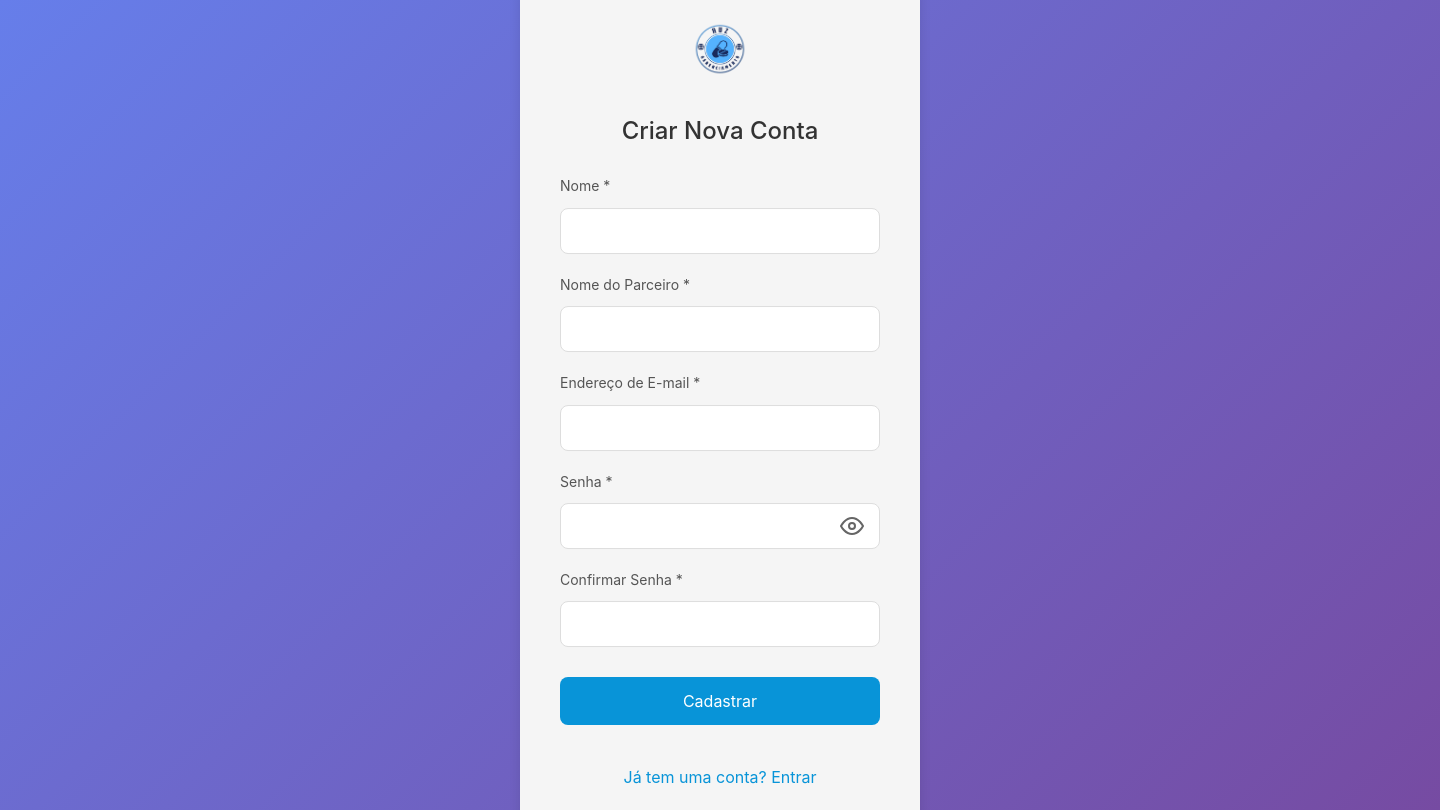
Register Component › failed registration shows error message
Type "João Silva" into the field labelled "Nome *" at (720, 231), box [560, 208, 880, 254]
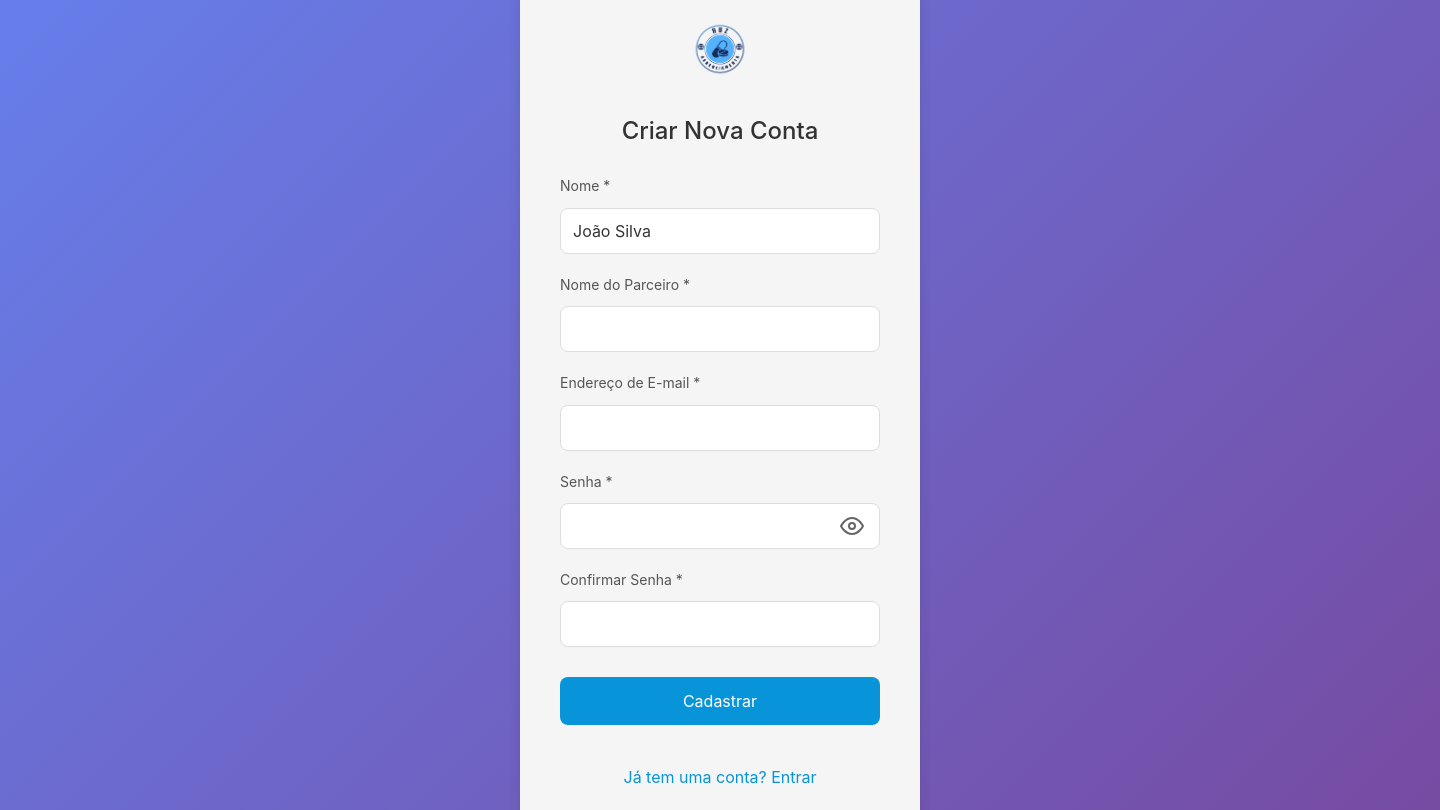
Type "Parceiro Test" into the field labelled "Nome do Parceiro *" at (720, 329), box [560, 306, 880, 352]
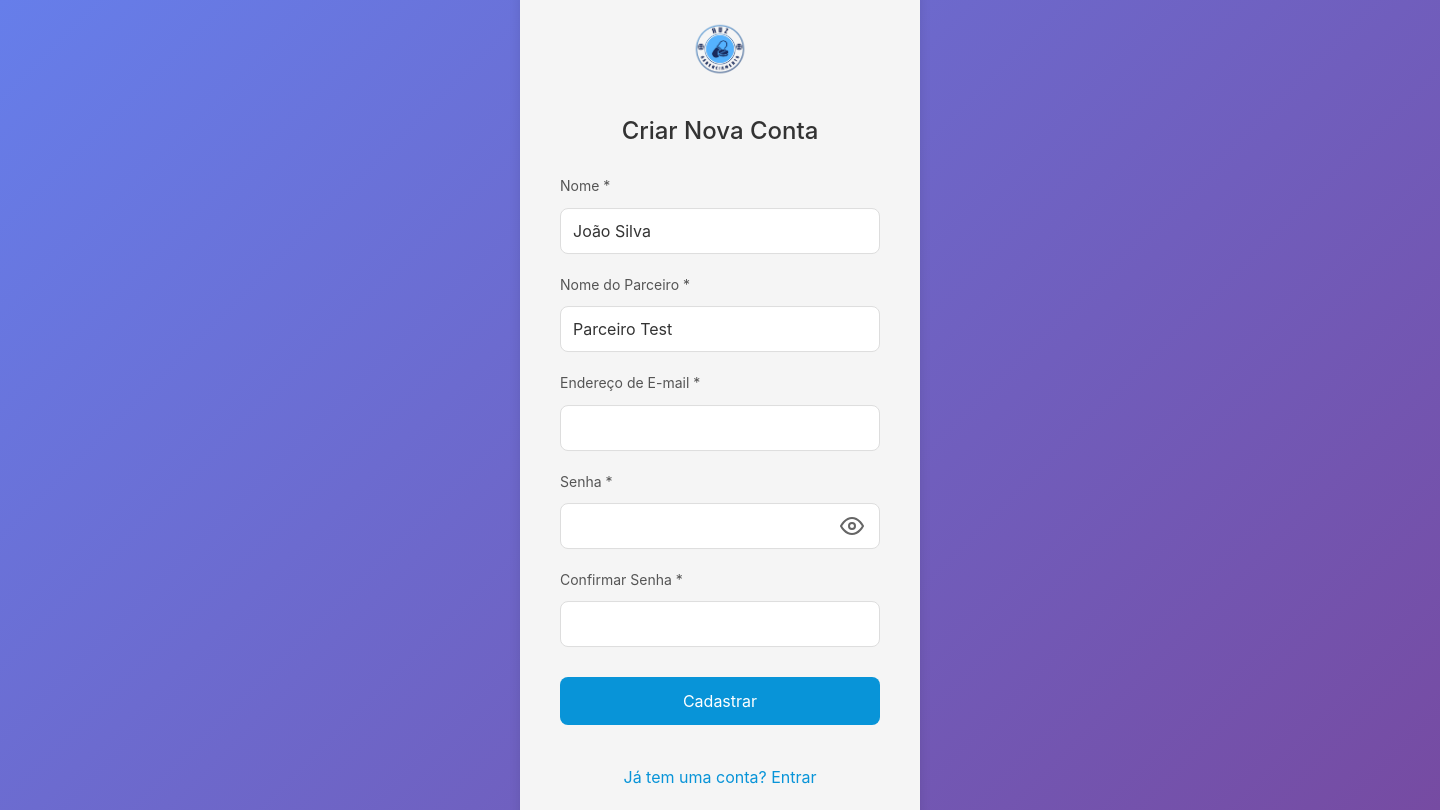
Type "test@example.com" into the field labelled "Endereço de E-mail *" at (720, 428), box [560, 405, 880, 451]
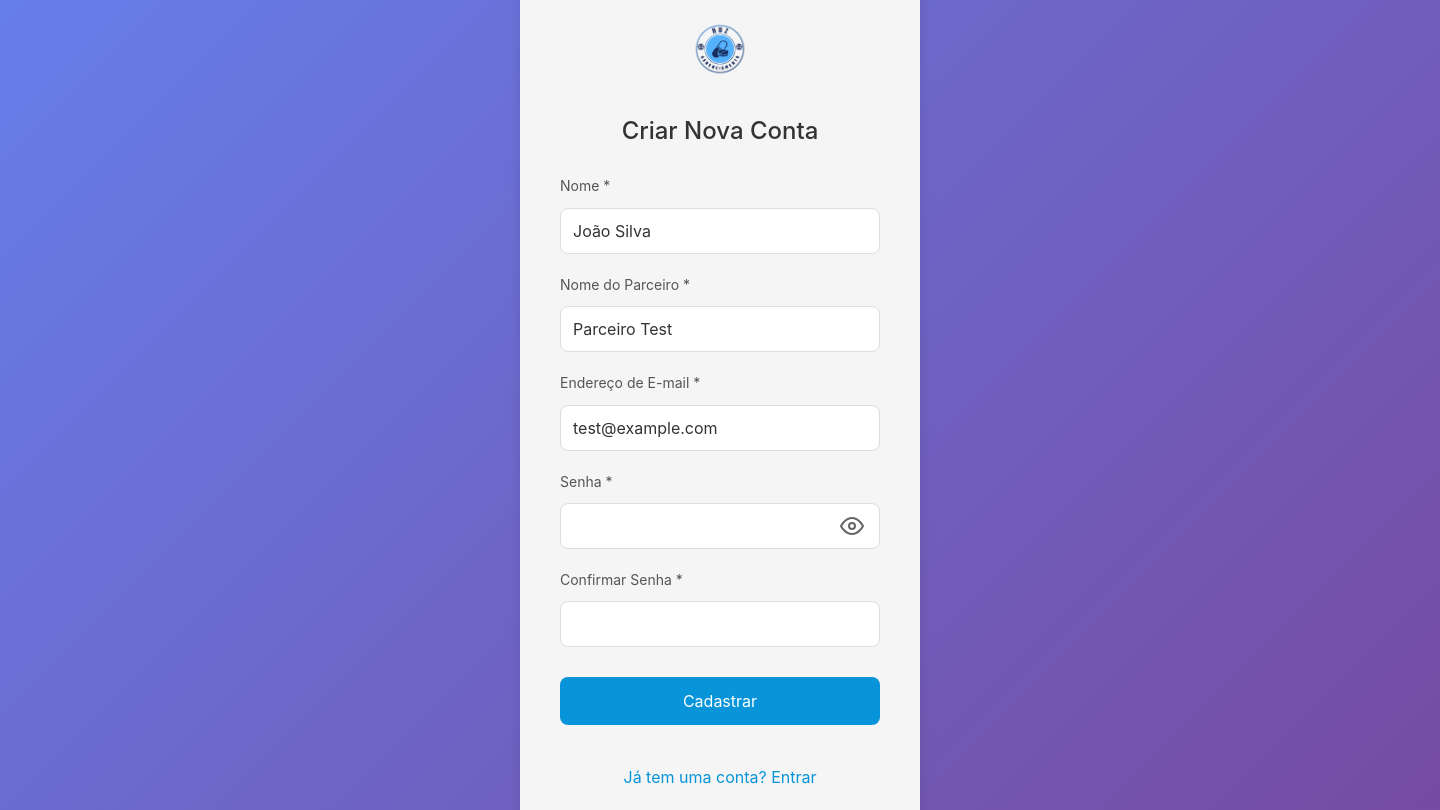
Type "password123" into the password field labelled "Senha *" at (720, 526), box [560, 503, 880, 549]
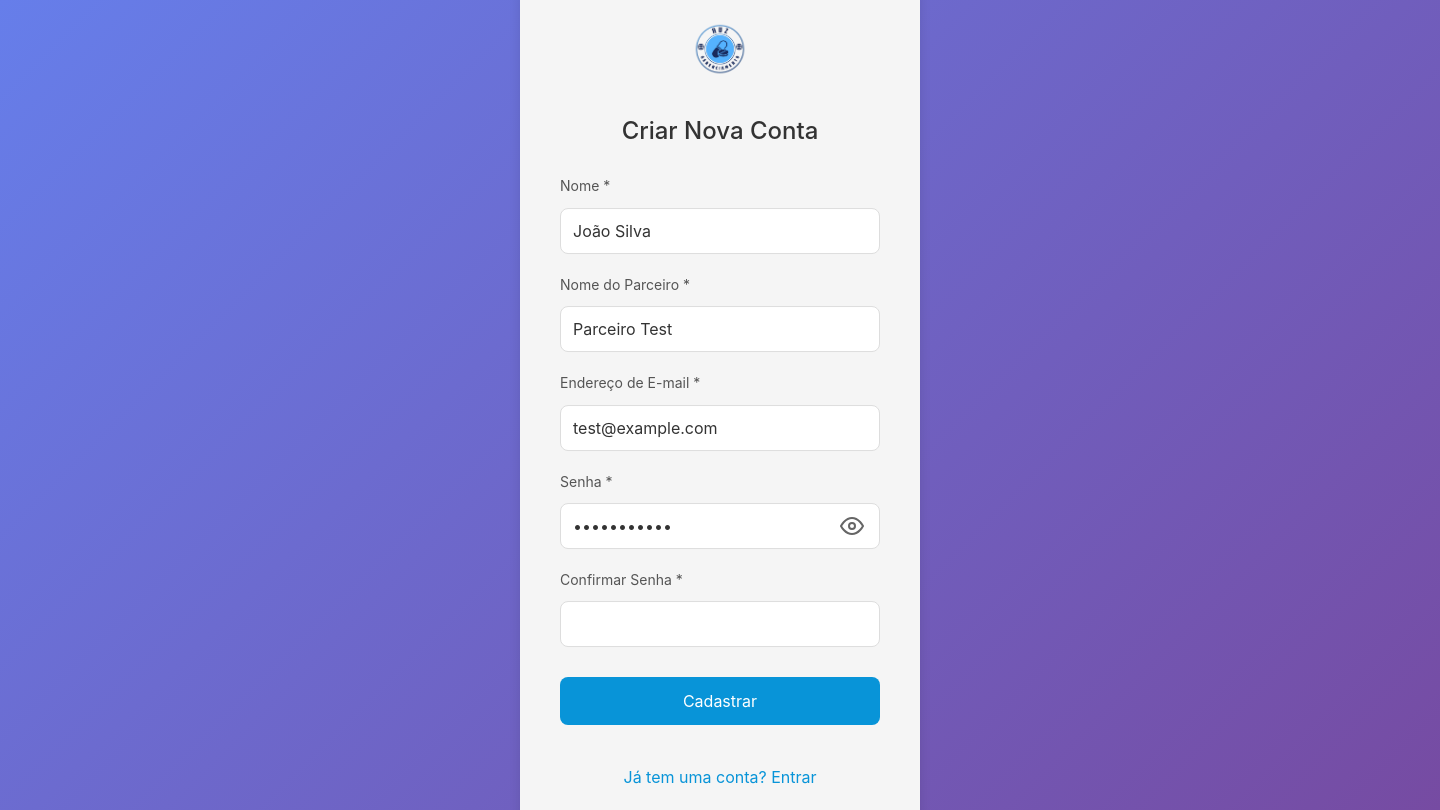
Type "password123" into the password field labelled "Confirmar Senha *" at (720, 624), box [560, 601, 880, 647]
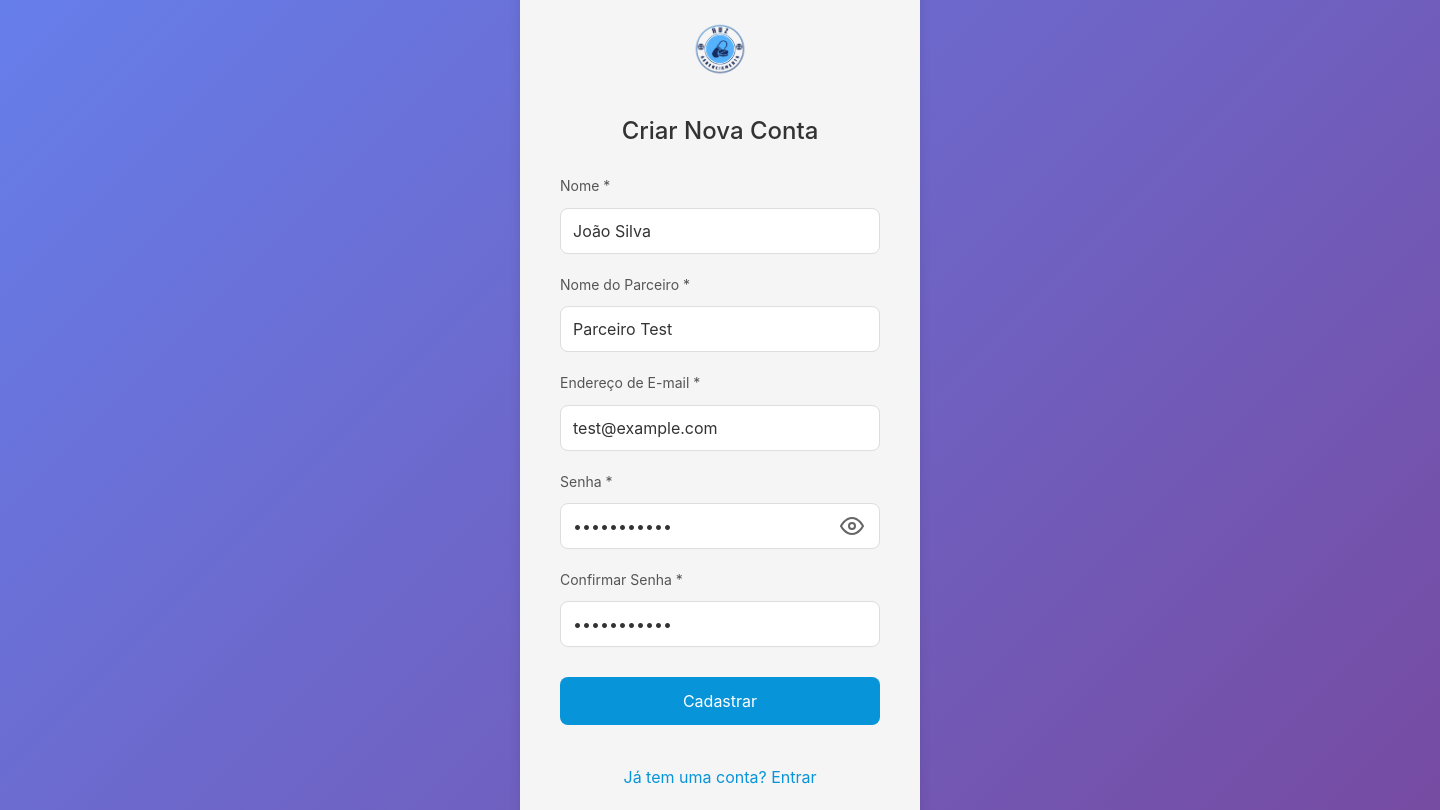
Click the button "Cadastrar" at (720, 701), box [560, 677, 880, 725]
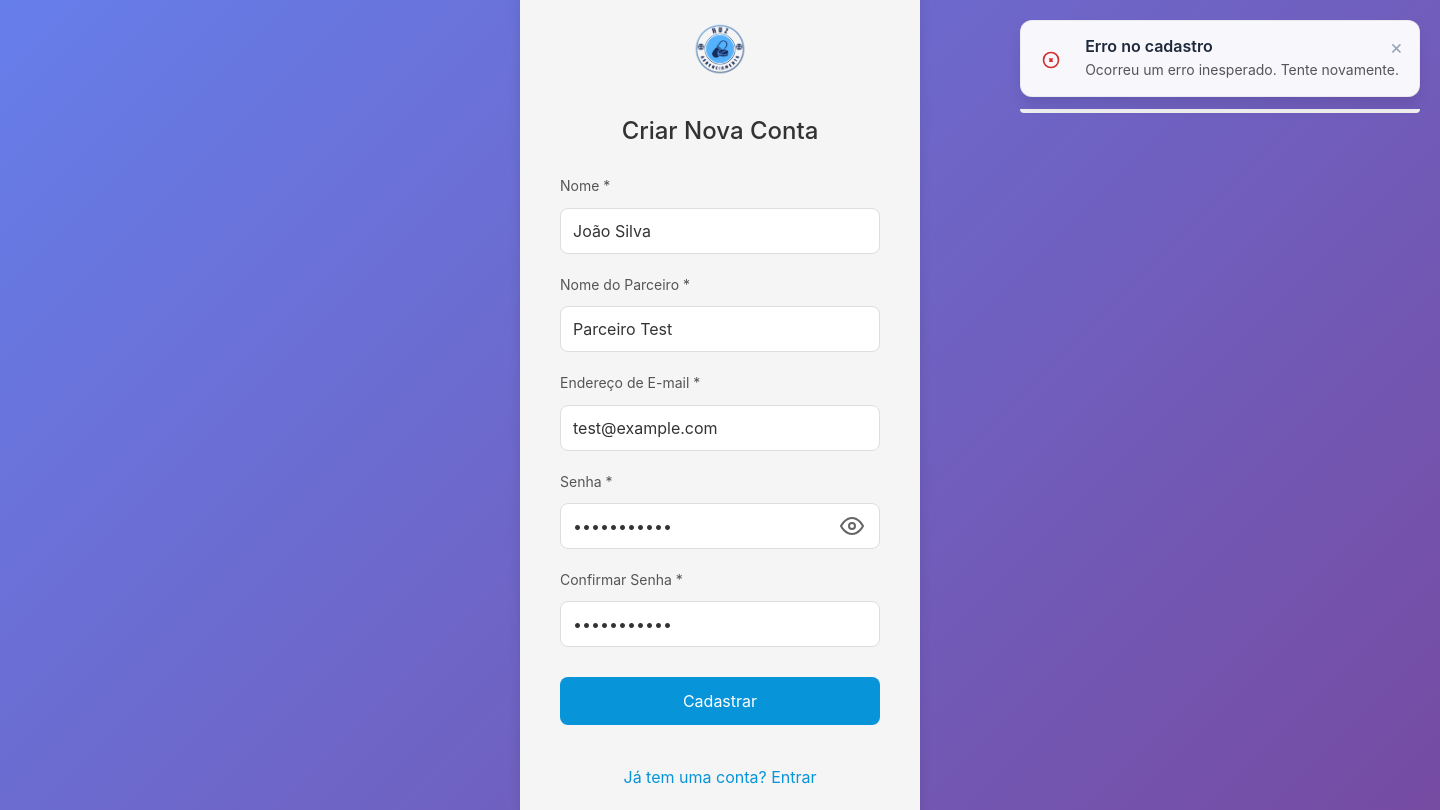
Expected: the heading "Erro no cadastro" is shown, [1085, 36, 1213, 56]
